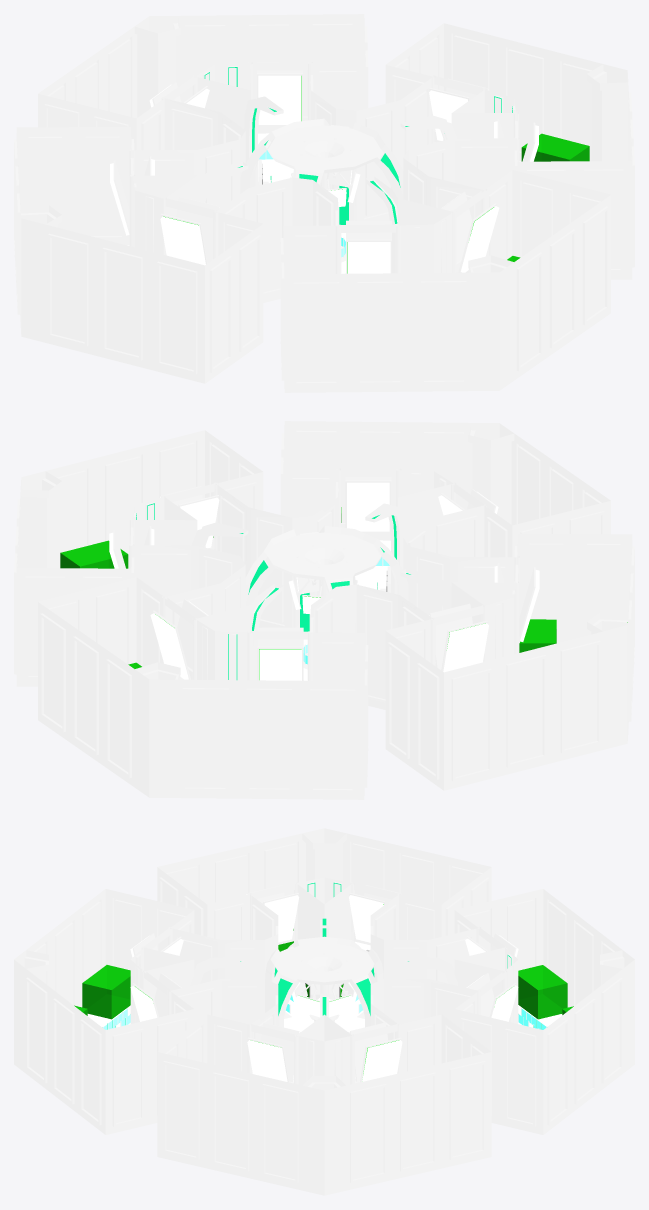
Rendered from hall1.glb.
3 views of the same model, one above another, from view 1: azimuth 30°, elevation 25°; view 2: azimuth 150°, elevation 25°; view 3: azimuth 270°, elevation 25° (orthographic). The views are drawn at different scales.
Visible parts, largest first — view 1: Circle, VLights.014, VLights.019, VLights.006, BoothB3, VLights.008, VLights.011; view 2: Circle, VLights.007, VLights.017, VLights.016, BoothB4, VLights.013, BoothD1, VLights.010; view 3: Circle, BoothA2, BoothC5, VLights.009, VLights.012, VLights.018, VLights.020, VLights.013, VLights.008.
Boxes of the visible parts, x1,y1,x2,y2 form: Circle: (14,14,634,392); VLights.014: (258,75,300,124); VLights.019: (160,216,205,265); VLights.006: (348,242,390,273); BoothB3: (521,133,589,161); VLights.008: (461,206,499,272); VLights.011: (429,90,467,140); Circle: (14,421,634,799); VLights.007: (347,482,389,531); VLights.017: (443,623,488,672); VLights.016: (259,649,301,680); BoothB4: (60,540,128,568); VLights.013: (150,613,188,679); BoothD1: (519,619,556,652); VLights.010: (180,497,219,548); Circle: (14,828,634,1195); BoothA2: (518,965,567,1019); BoothC5: (82,965,130,1019); VLights.009: (247,1040,287,1081); VLights.012: (362,1040,402,1081); VLights.018: (349,895,383,942); VLights.020: (264,895,299,942); VLights.013: (491,985,518,1021); VLights.008: (130,985,157,1021).
Size of what is drawn, in the model's own units: 135 by 26.91 by 135.
